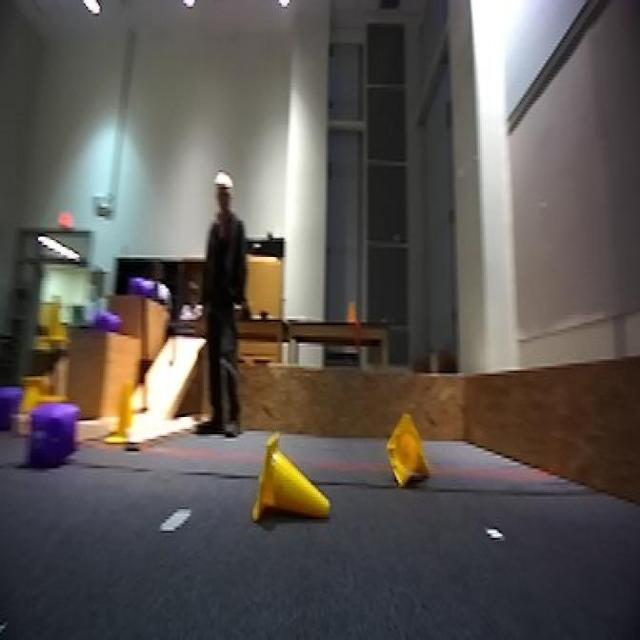frc_cone: (254, 436, 326, 516), (385, 408, 432, 487), (38, 281, 72, 354), (109, 378, 135, 442)
frc_cube: (32, 402, 77, 472), (0, 378, 27, 436), (84, 301, 124, 332), (131, 276, 157, 303)
